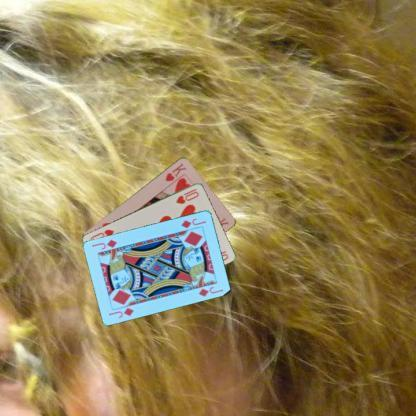10h: (173, 186, 200, 205)
Jd: (178, 216, 208, 230), (107, 304, 136, 318)
Kh: (162, 160, 188, 183)
